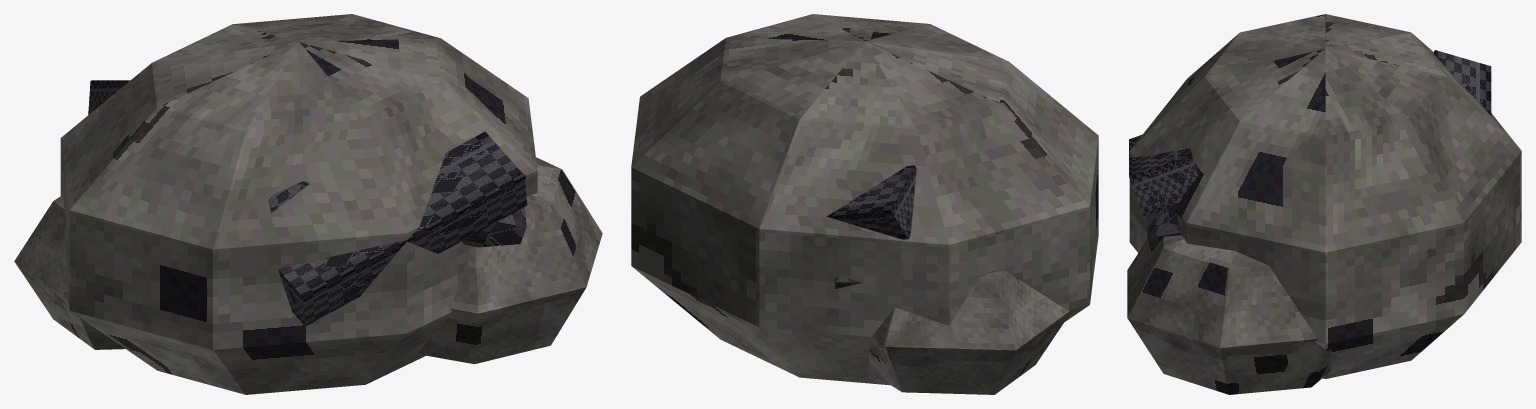
The model's file is betume.glb.
The picture shows the model from 3 angles, left to right: view 1: azimuth 30°, elevation 25°; view 2: azimuth 150°, elevation 25°; view 3: azimuth 270°, elevation 25°; orthographic projection. The views are drawn at different scales.
Parts seen in each view (by area): view 1: betume; view 2: betume; view 3: betume.
Boxes of the visible parts, x1,y1,x2,y2 form: betume: (14,14,602,394); betume: (631,14,1098,394); betume: (1127,14,1521,394).
Bounding box in the file's own units: 1.02 × 0.6642 × 0.8026.
Materials: 1 (1 with a texture image).
